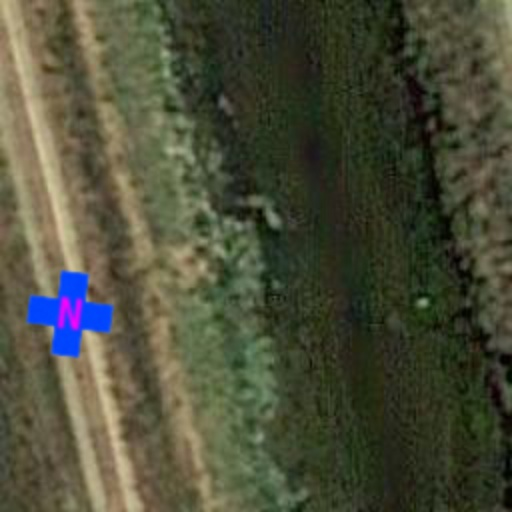cross: (22, 266, 118, 362)
